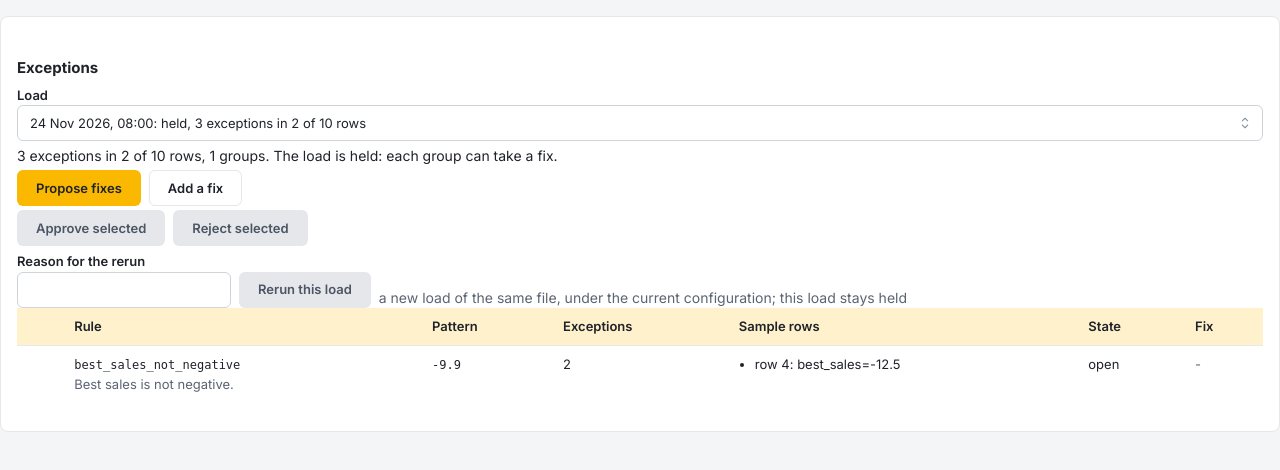
Test: a steward proposes fixes for the open groups
What coordinates should you click on to do the following:
click the button "Propose fixes"
I would click on:
 (79, 188)
Its box is 17,170 -> 141,206.
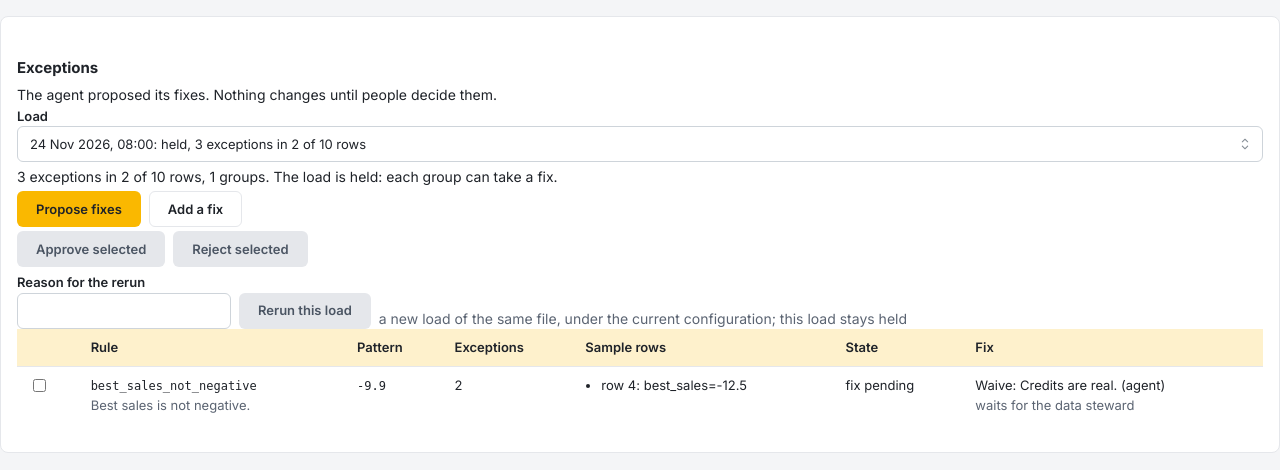
Result: the element with test id "exception-fix" shows "waits for the data steward" at 975,396 -> 1134,412
